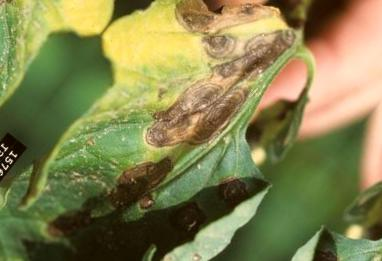Tomato Early blight leaf: (0, 0, 362, 261)
